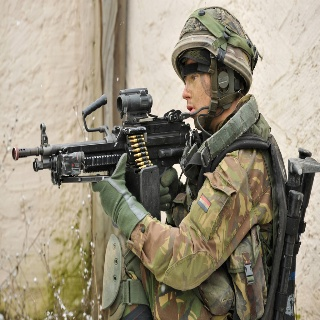rifle: (9, 85, 197, 216)
